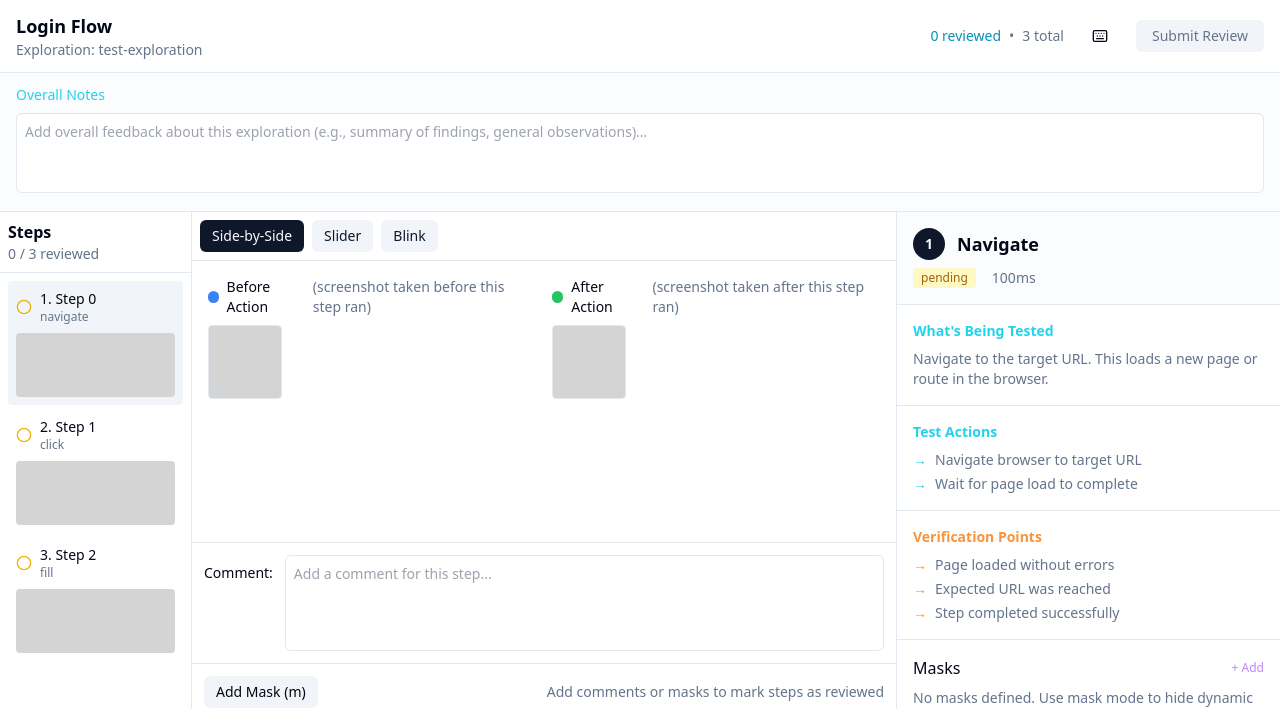
ReviewPage - Feedback-Focused Model › Reviewed Status Based on Feedback › should show step as reviewed when comment is added
Add a comment
Type "This looks good" into the text box with placeholder "Add a comment for this step..." at (584, 603), box [285,555,884,651]
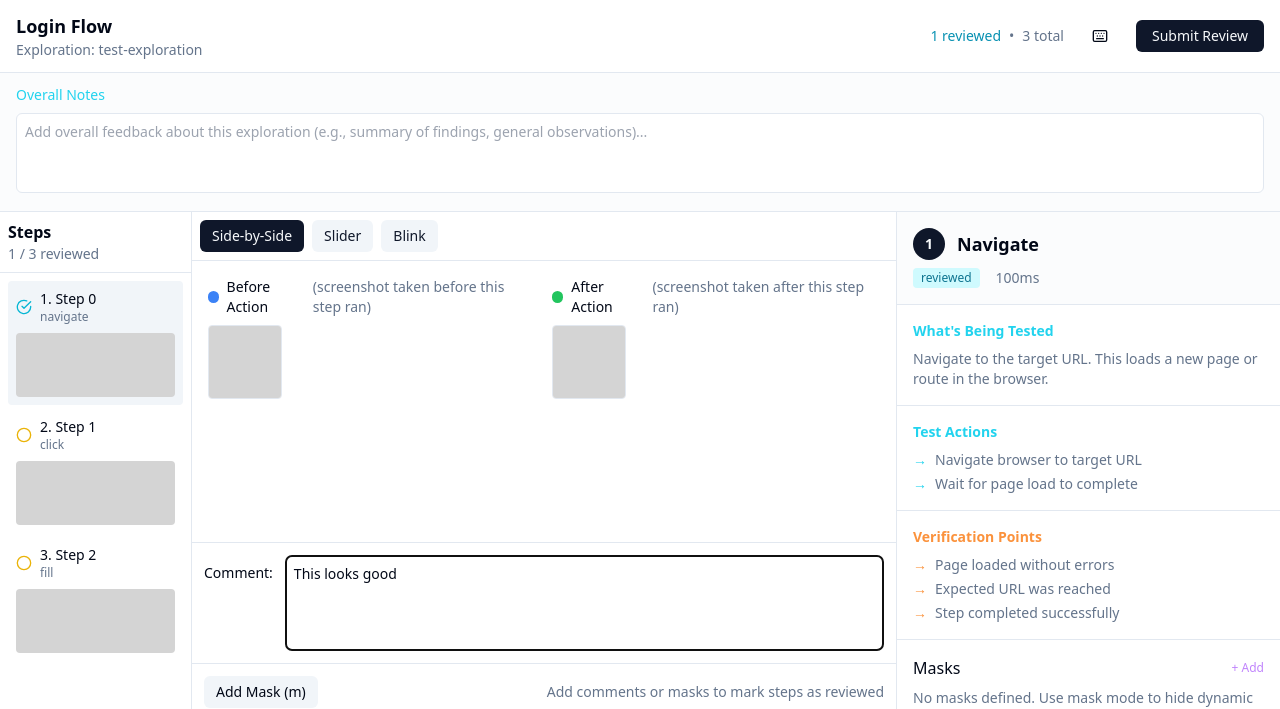
Result: the icon with test id "status-reviewed-0" is shown at [16,299,32,315]
